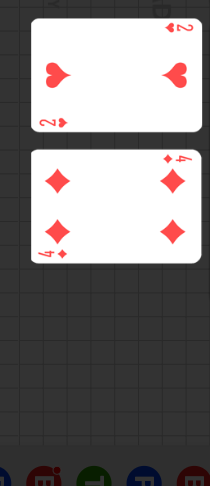2H: (38, 116, 69, 128)
4D: (38, 248, 69, 260)
